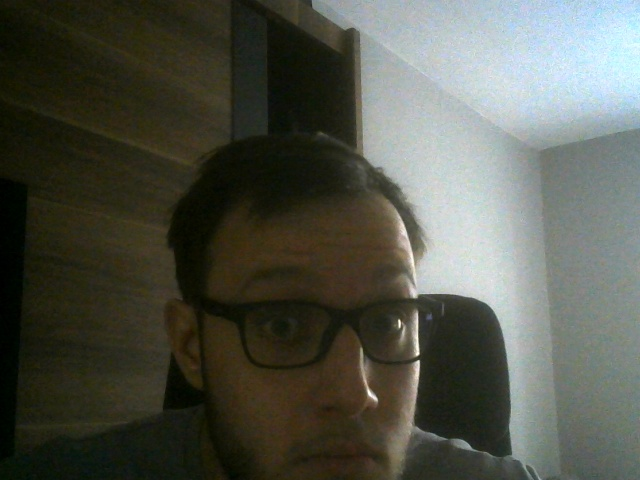surprised: (165, 136, 461, 480)
